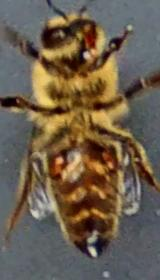varroa_mite: (46, 140, 76, 183), (99, 141, 126, 173)
